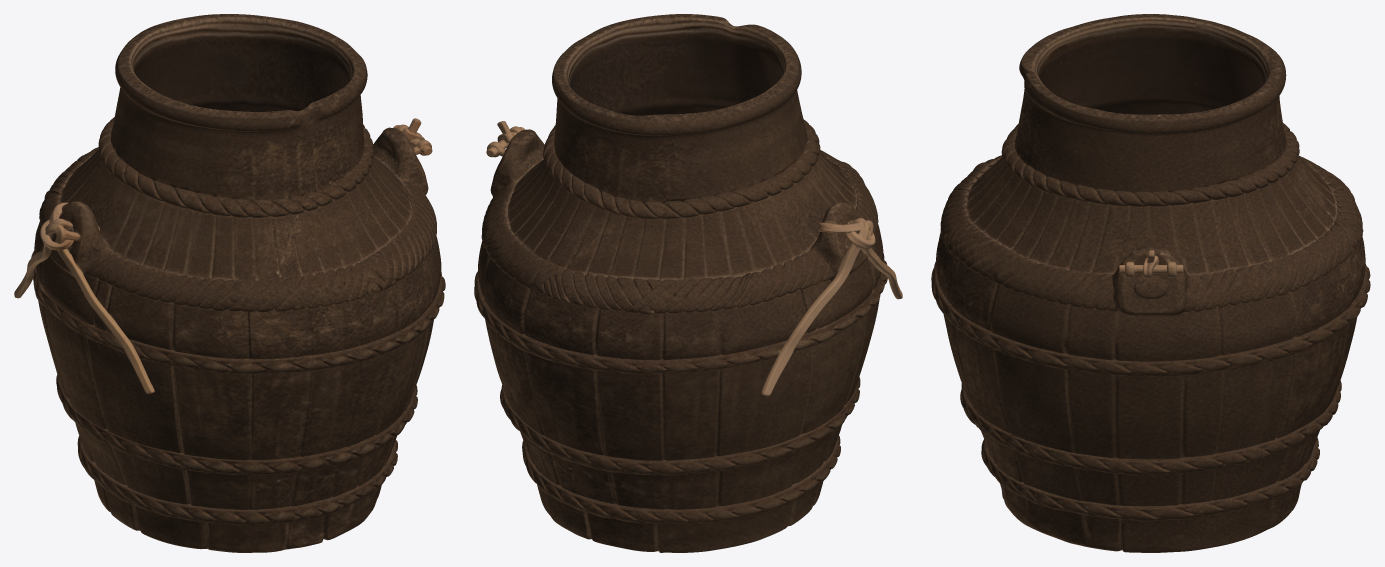
Rendered from kalinga-immoso.glb.
3 renders of one model, left to right at view 1: azimuth 30°, elevation 25°; view 2: azimuth 150°, elevation 25°; view 3: azimuth 270°, elevation 25°, orthographic.
Parts seen in each view (by area): view 1: Mesh_0; view 2: Mesh_0; view 3: Mesh_0.
Boxes of the visible parts, x1,y1,x2,y2 form: Mesh_0: [14, 14, 445, 552]; Mesh_0: [474, 14, 902, 552]; Mesh_0: [931, 14, 1370, 552].
Size of the model in its own units: 0.46 by 0.5 by 0.46.
1 material, 1 textured.
